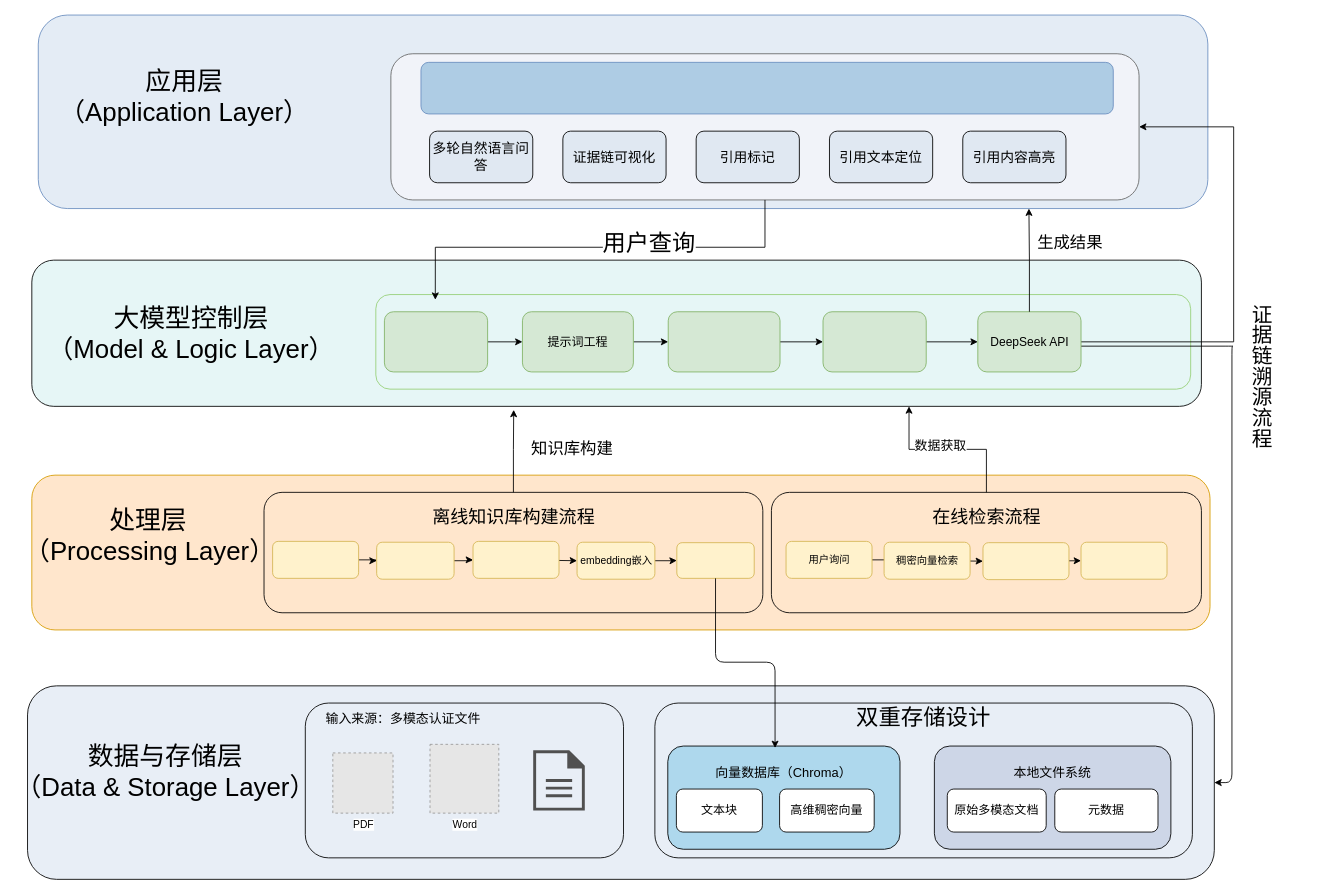
This 1326x894 diagram has some shape labels left out. Grey dashed boxes stand in for pictures. The shapes that lost their labels are listed below. From the top down, each one's centre as x and y in pixels, then its label:
point (766, 87): 基于Vue的Web界面
point (436, 341): LangChain工作流
point (723, 341): 查询+检索证据组装
point (874, 341): 可控生成/抑制幻觉
point (315, 559): 多模态文档
point (415, 560): 结构化提取
point (515, 559): 语义分割
point (715, 560): 存储
point (1025, 561): 重排 （bge-reranker-v2-m3 ）
point (1123, 560): 高精度上下文
point (558, 780): 教学大纲
